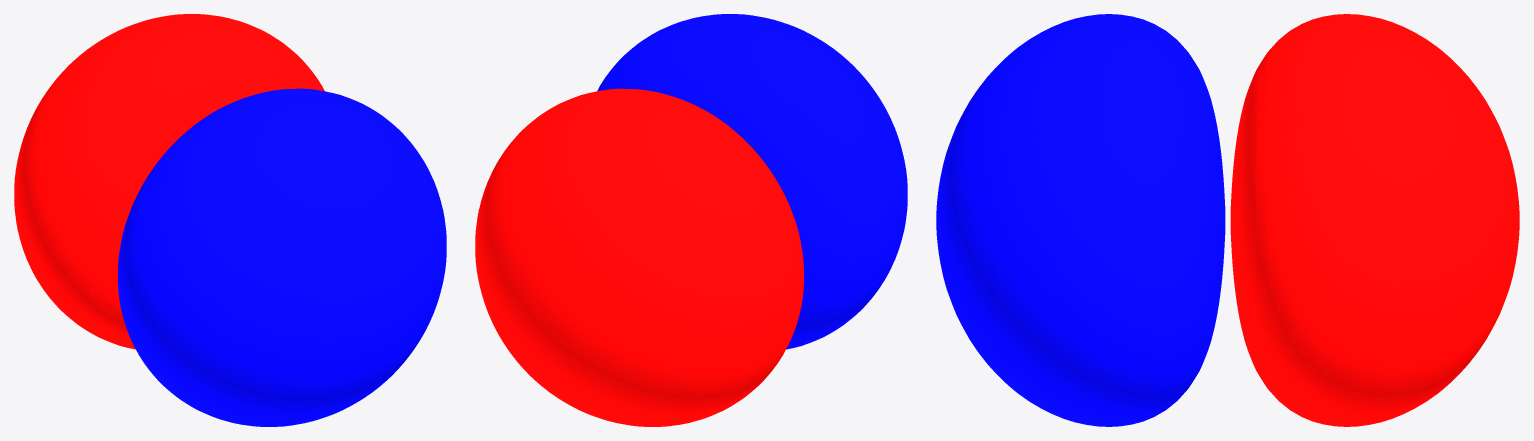
File: orbital_n2_l1_m-1_real_signed.fbx
3 views of the same model, side by side, from view 1: azimuth 30°, elevation 25°; view 2: azimuth 150°, elevation 25°; view 3: azimuth 270°, elevation 25° (orthographic). The views are drawn at different scales.
Parts seen in each view (by area): view 1: orbital_n2_l1_m-1_real_signed; view 2: orbital_n2_l1_m-1_real_signed; view 3: orbital_n2_l1_m-1_real_signed.
Part boxes in pixels (bbox=[...]): orbital_n2_l1_m-1_real_signed: bbox=[14, 14, 446, 426]; orbital_n2_l1_m-1_real_signed: bbox=[475, 14, 907, 426]; orbital_n2_l1_m-1_real_signed: bbox=[936, 14, 1519, 426].
Size of the model in its own units: 1389 by 1389 by 1961.
